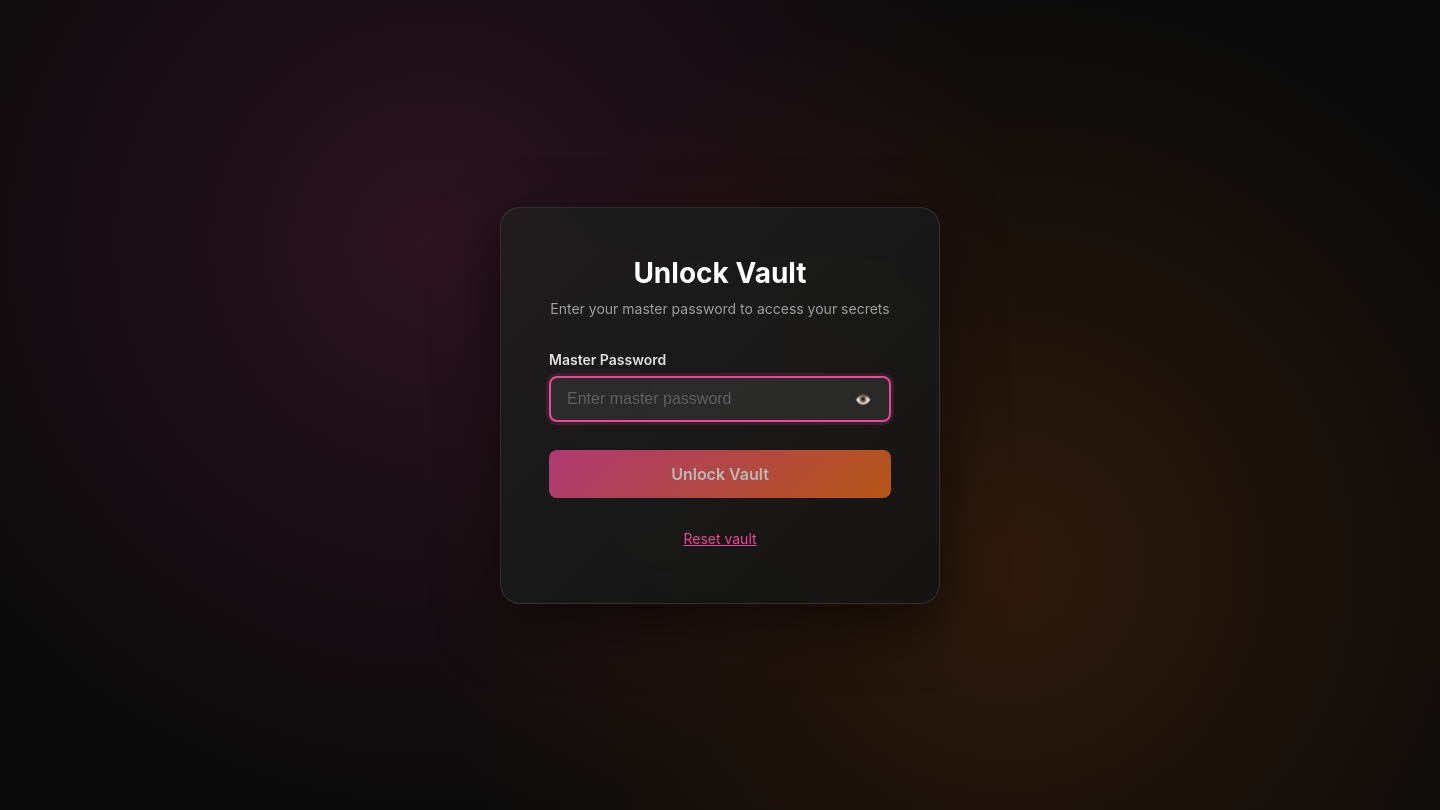
Test case: UnlockScreen › disables submit button when loading
The image size is (1440, 810).
In the password field labelled "Master Password": (720, 398) [549,376,891,422], type "testpassword"
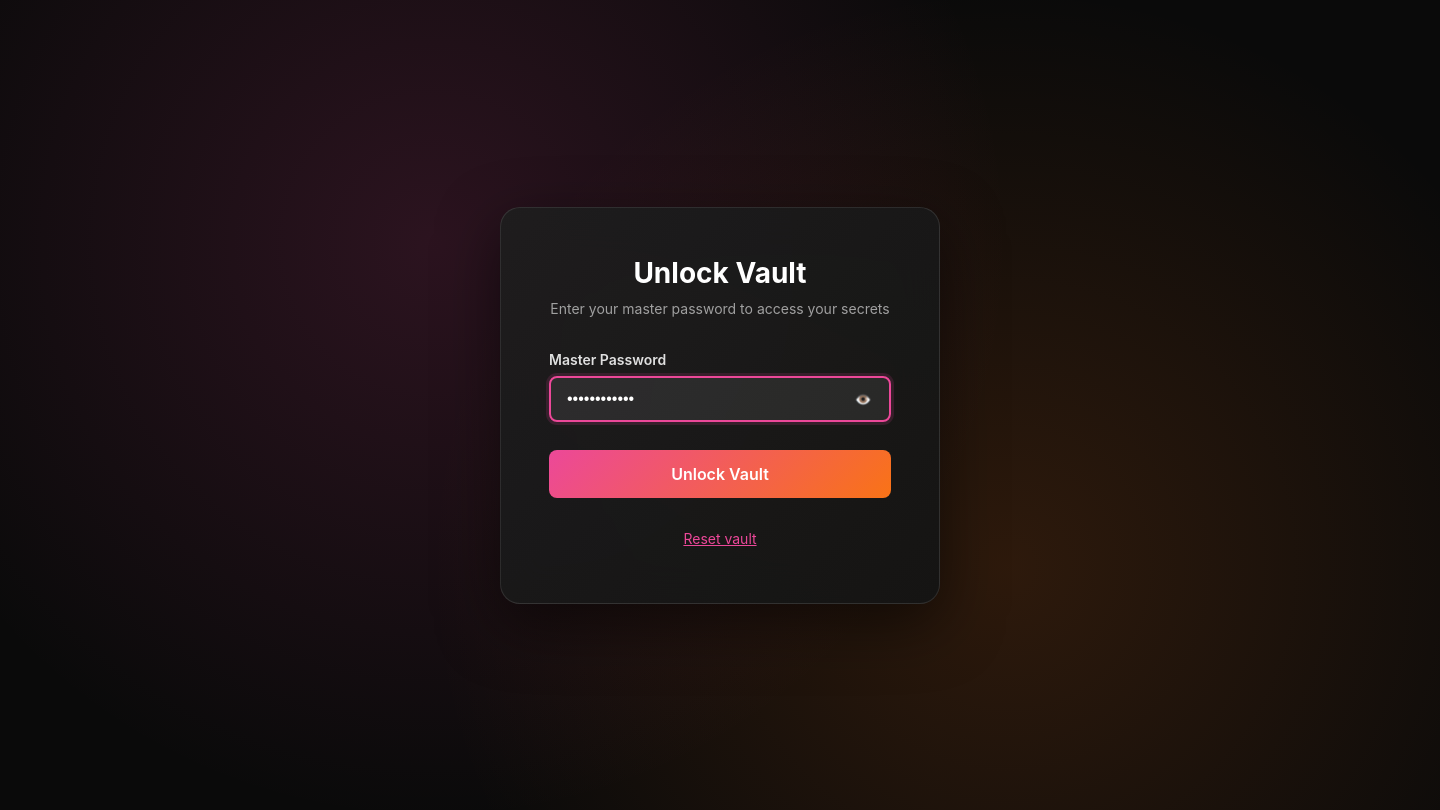
Click the button "Unlock Vault": (720, 474) [549,450,891,498]
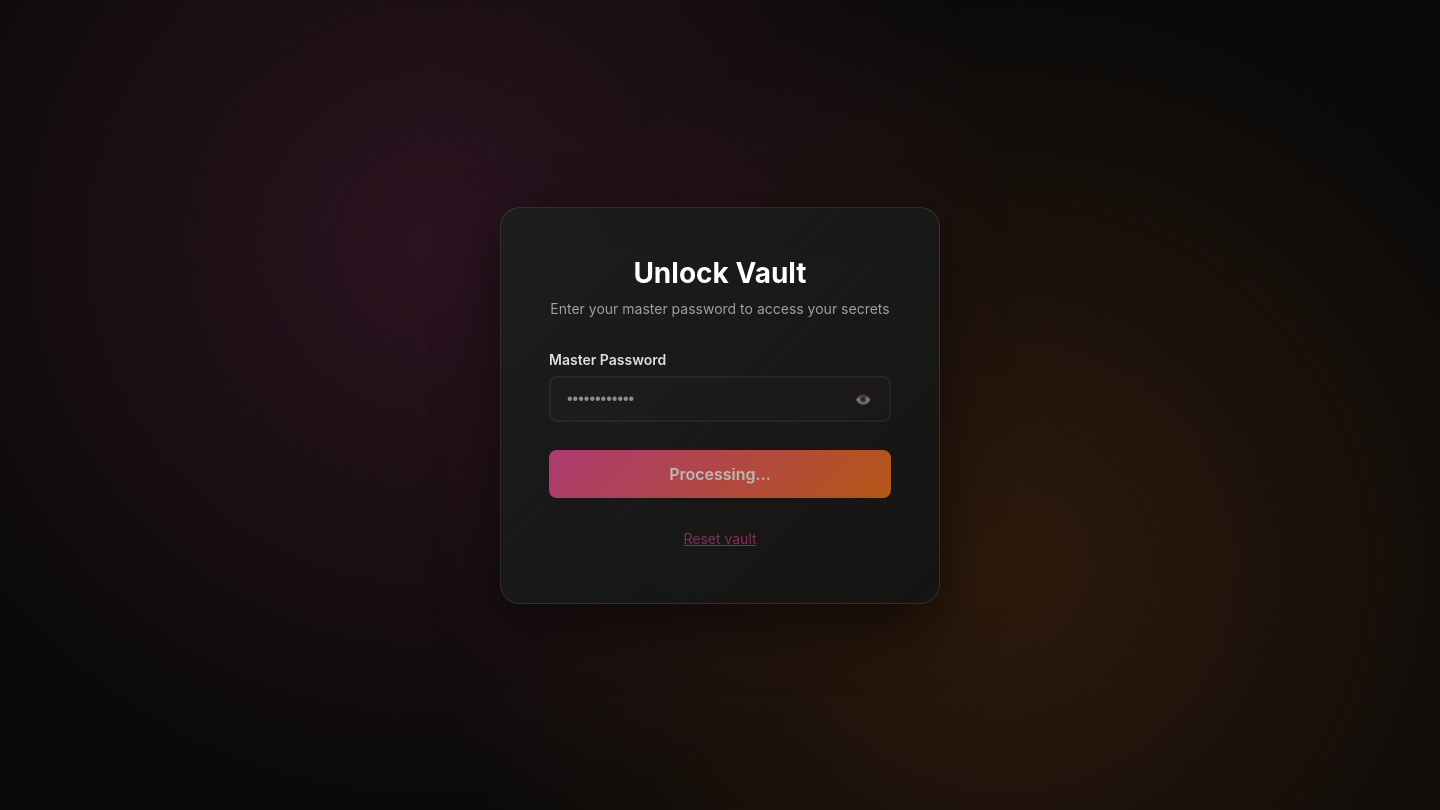
Expected: the button named "Unlock Vault" is disabled, [549,450,891,498]
